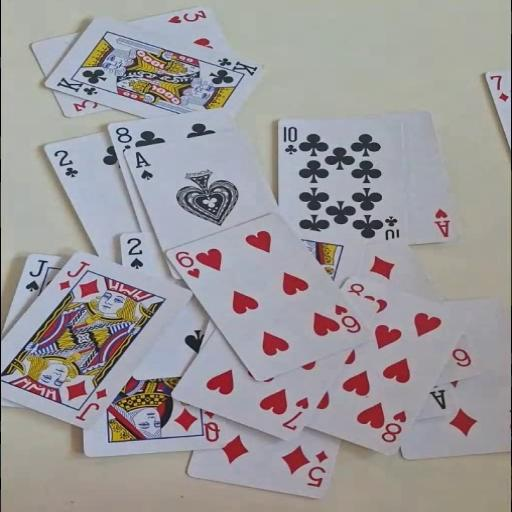10: (281, 124, 299, 156)
2: (50, 148, 80, 178), (124, 236, 146, 270)
3: (165, 8, 208, 24)
5: (304, 448, 330, 489)
6: (330, 302, 363, 334), (172, 249, 202, 279)
7: (279, 395, 312, 431), (488, 72, 510, 102)
8: (378, 408, 408, 444), (113, 125, 134, 150)
A: (432, 206, 452, 238)
J: (72, 386, 109, 422), (55, 259, 91, 291)
K: (214, 55, 260, 77), (53, 75, 100, 96)
